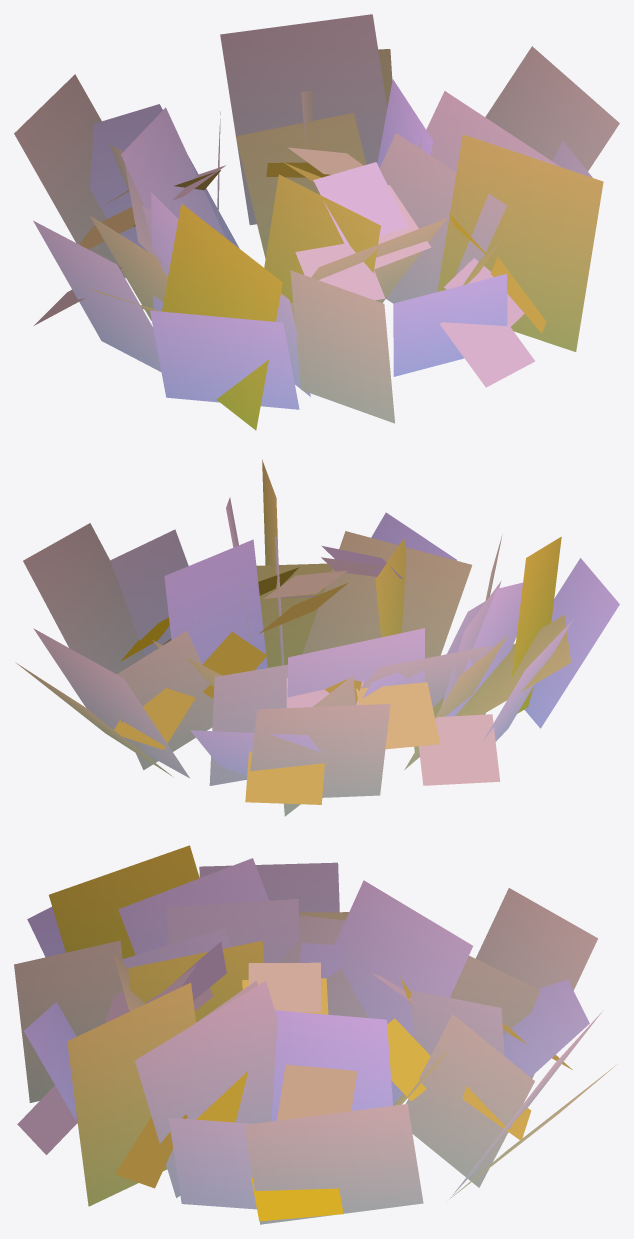
The model's file is flowers_petunia.glb.
The picture shows the model from 3 angles, top to bottom: view 1: azimuth 30°, elevation 25°; view 2: azimuth 150°, elevation 25°; view 3: azimuth 270°, elevation 25°; orthographic projection. The views are drawn at different scales.
Visible parts, largest first — view 1: flowers_petunia; view 2: flowers_petunia; view 3: flowers_petunia.
Boxes of the visible parts, <box> form: flowers_petunia: <box>14,14,619,430</box>; flowers_petunia: <box>15,459,619,816</box>; flowers_petunia: <box>14,845,617,1224</box>.
Size of the model in its own units: 0.5341 by 0.2141 by 0.5201.
